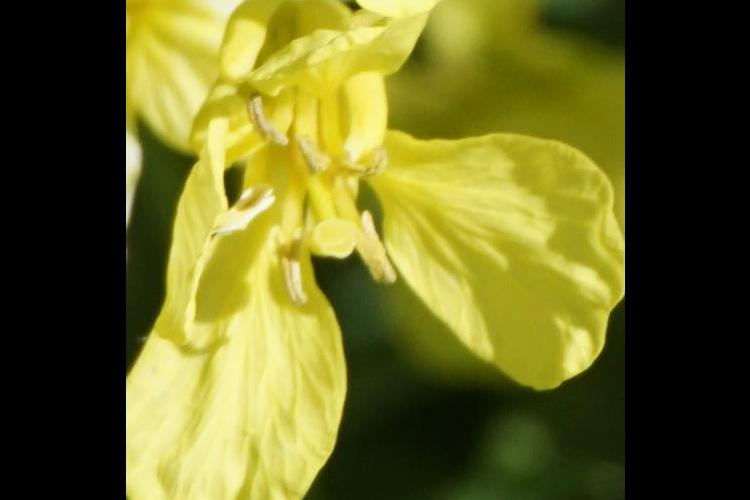yellow: (163, 1, 600, 500)
